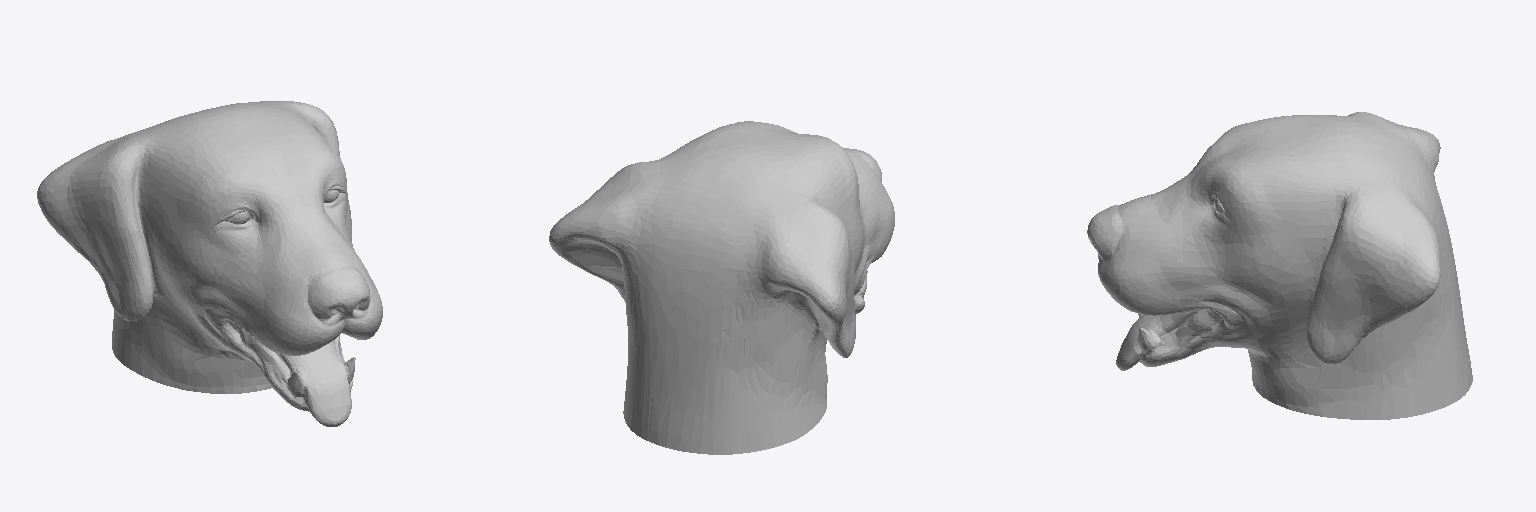
The model's file is dog_light.obj.
The picture shows the model from 3 angles: view 1: azimuth 30°, elevation 25°; view 2: azimuth 150°, elevation 25°; view 3: azimuth 270°, elevation 25°; orthographic projection.
Parts seen in each view (by area): view 1: DogPanting; view 2: DogPanting; view 3: DogPanting.
Part boxes in pixels (x1,y1,x2,y2): DogPanting: (37, 101, 382, 426); DogPanting: (549, 121, 894, 454); DogPanting: (1087, 112, 1472, 419).
Size of the model in its own units: 10.74 by 8.78 by 12.46.